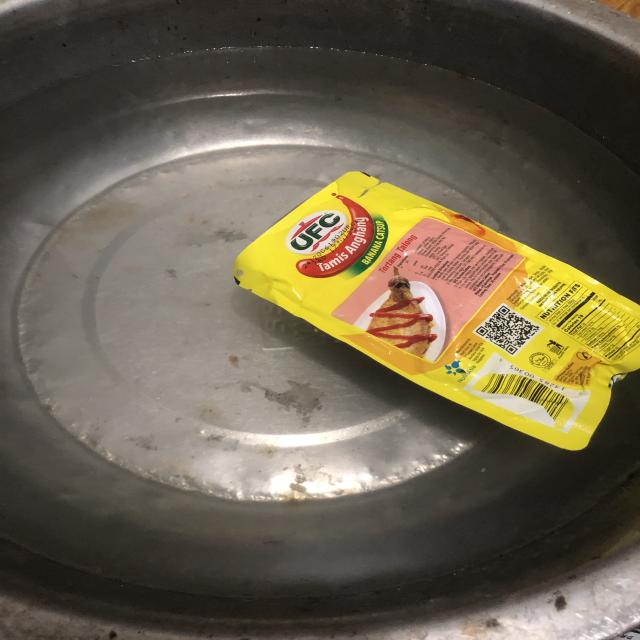Plastic Pouch: (218, 155, 640, 470)
